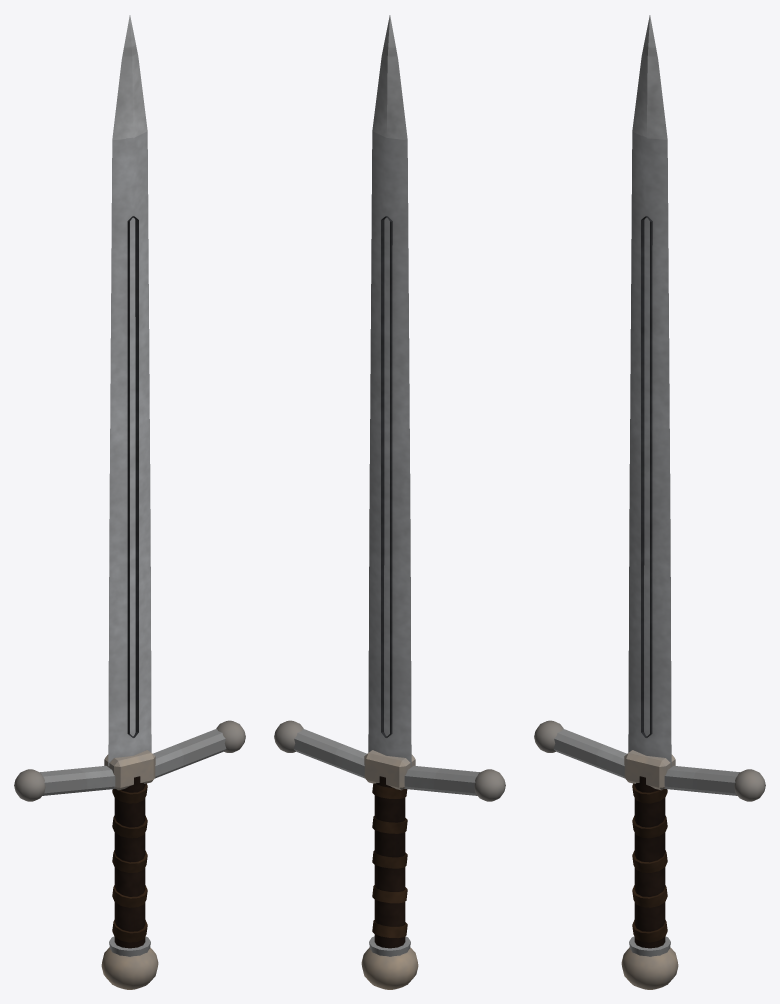
Rendered from knight_sword.gltf.
3 views of the same model, side by side, from view 1: azimuth 30°, elevation 25°; view 2: azimuth 150°, elevation 25°; view 3: azimuth 330°, elevation 25° (orthographic).
Visible parts, largest first — view 1: KnightSword; view 2: KnightSword; view 3: KnightSword.
Part boxes in pixels (x1,y1,x2,y2): KnightSword: (14, 15, 245, 989); KnightSword: (274, 15, 505, 989); KnightSword: (534, 15, 765, 989).
Bounding box in the file's own units: 0.274 × 1.12 × 0.06.
Materials: 1 (1 with a texture image).
